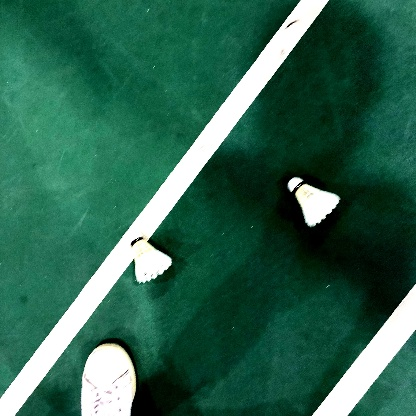ball_single: (287, 177, 340, 227), (129, 231, 172, 284)
